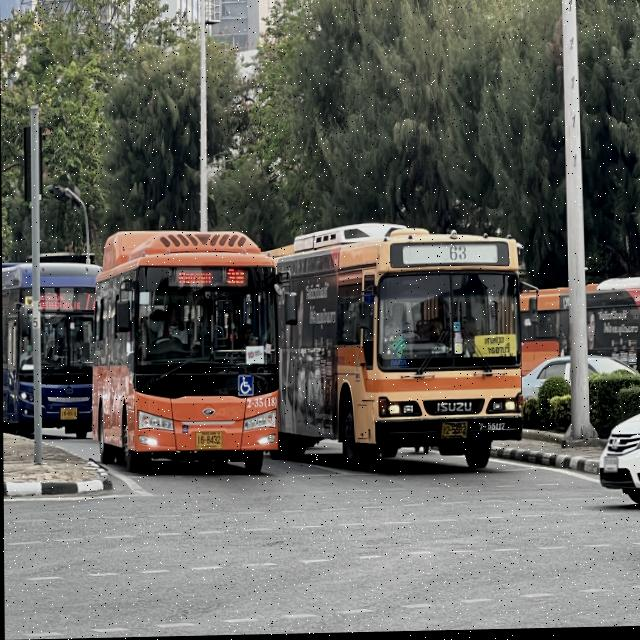BMTA-bus: (273, 224, 525, 477)
Bus-Line-Number: (445, 243, 469, 266), (224, 268, 246, 287), (81, 289, 96, 313)
Destination-Sign-Normal: (39, 289, 82, 313)
Destination-Sign-Normal-Expressway: (474, 337, 516, 359)
TSB-Bus: (90, 230, 279, 480), (2, 261, 97, 440)
